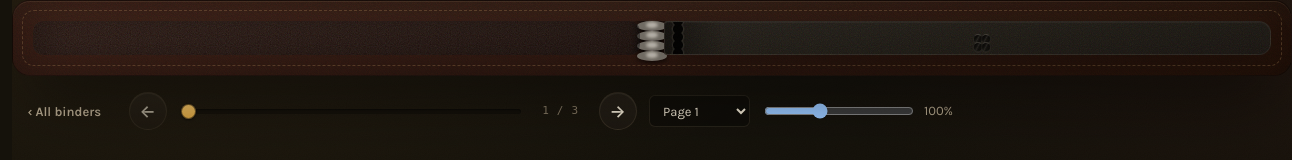
Scenario: BinderView › page turning › the scrubber jumps straight to a spread without animating a leaf
Set the slider named "go to spread" to "3" at [512, 111], box [180,100,520,122]
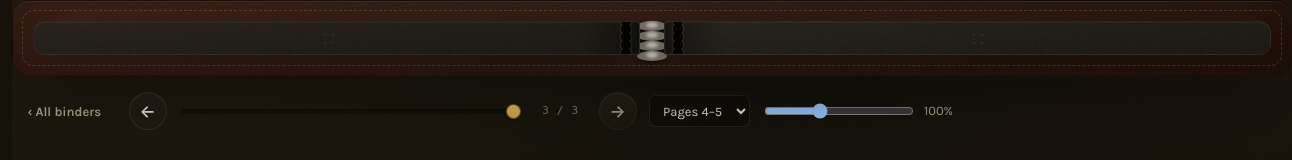
Expected: the element named "page 5" is shown, [664,21,1271,55]
Expected: the element named "page 4" is shown, [33,21,640,55]
